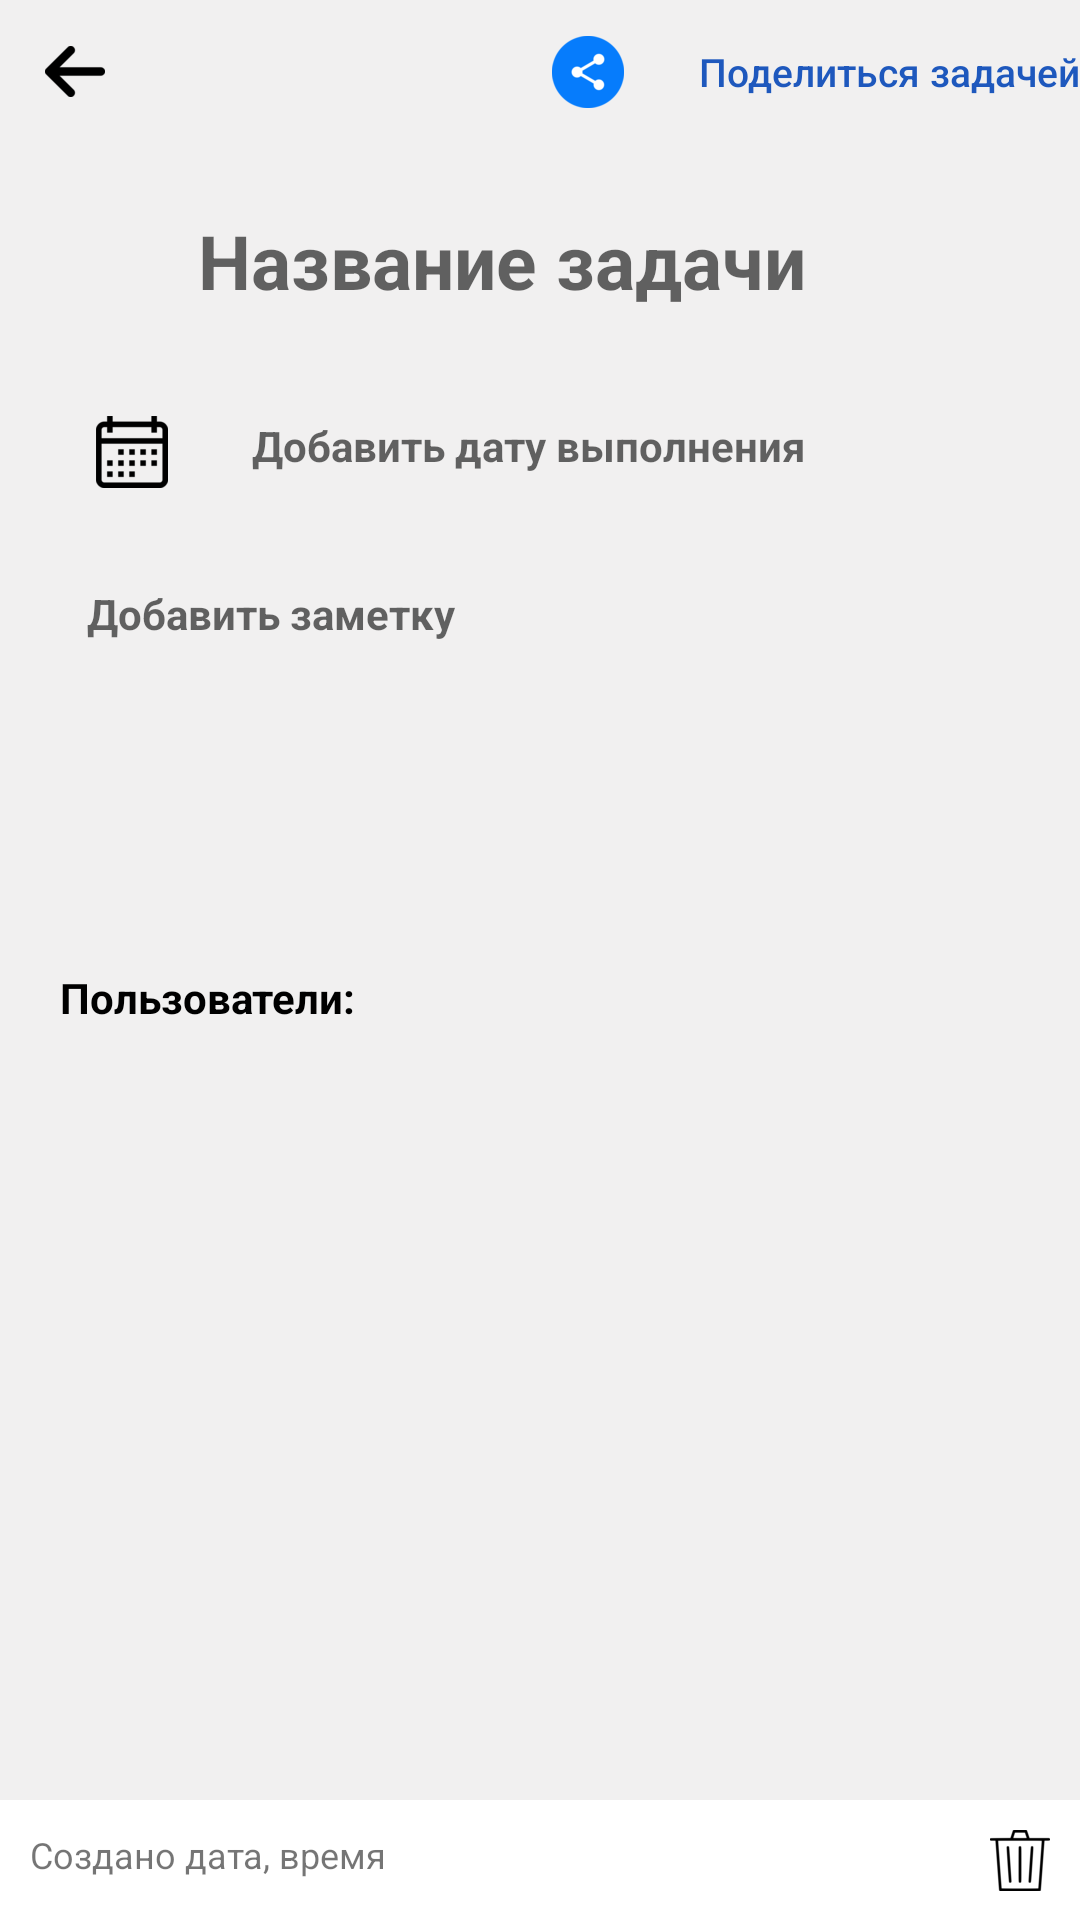

Locate icon controls on the screen. Image size 1080px×1920px, boxes as (x1, y1, x2, y2).
calendar: (96, 416, 168, 488)
trashicon: (990, 1830, 1050, 1891)
